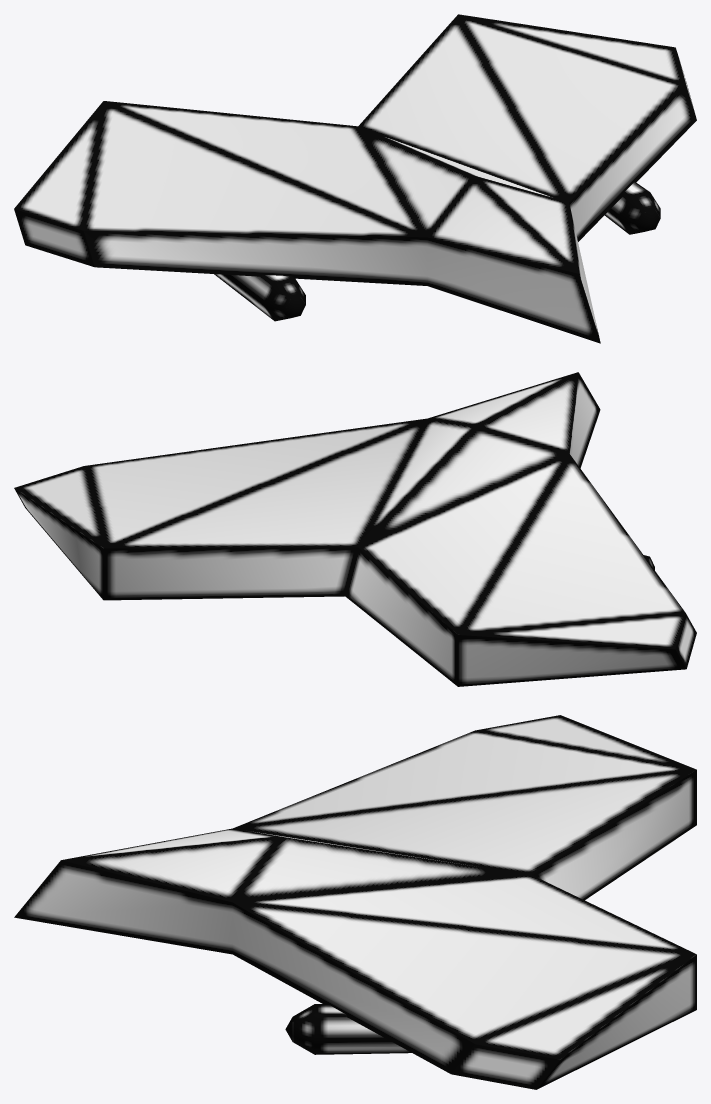
Rendered from Aircraft1.obj.
3 views of the same model, one above another, from view 1: azimuth 30°, elevation 25°; view 2: azimuth 150°, elevation 25°; view 3: azimuth 270°, elevation 25° (orthographic). The views are drawn at different scales.
Visible parts, largest first — view 1: Box17; view 2: Box17; view 3: Box17.
Part boxes in pixels (x1,y1,x2,y2): Box17: (14, 14, 696, 343); Box17: (14, 372, 696, 686); Box17: (14, 715, 696, 1089).
Size of the model in its own units: 3.73 by 0.599 by 3.12.
Materials: 1 (1 with a texture image).
